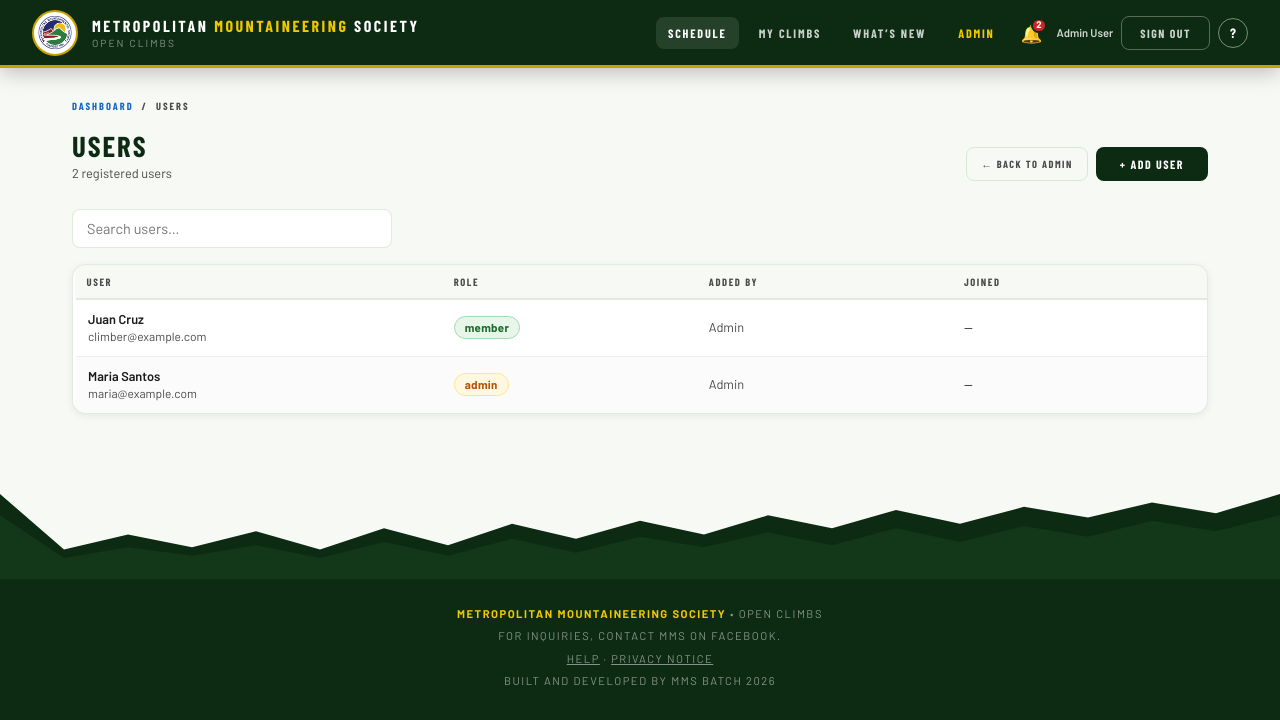
Admin UsersManage › saves a corrected name and email via updateUserProfile
Step 1. Click the button "Juan Cruz" → {"x": 116, "y": 319}, box [88,310,144,328]
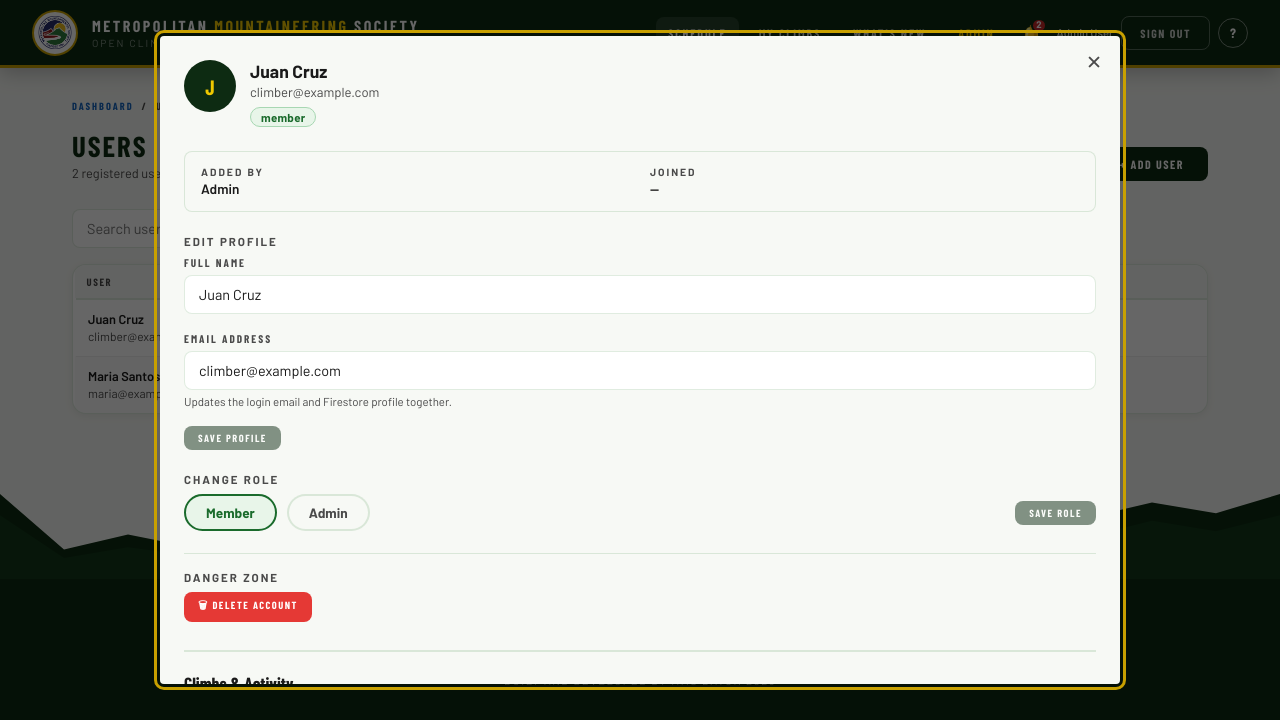
Result: the field showing "Juan Cruz" is shown
Step 2. Replace the text in the field showing "Juan Cruz" with "Juan Dela Cruz" → {"x": 640, "y": 294}, box [184,275,1096,314]
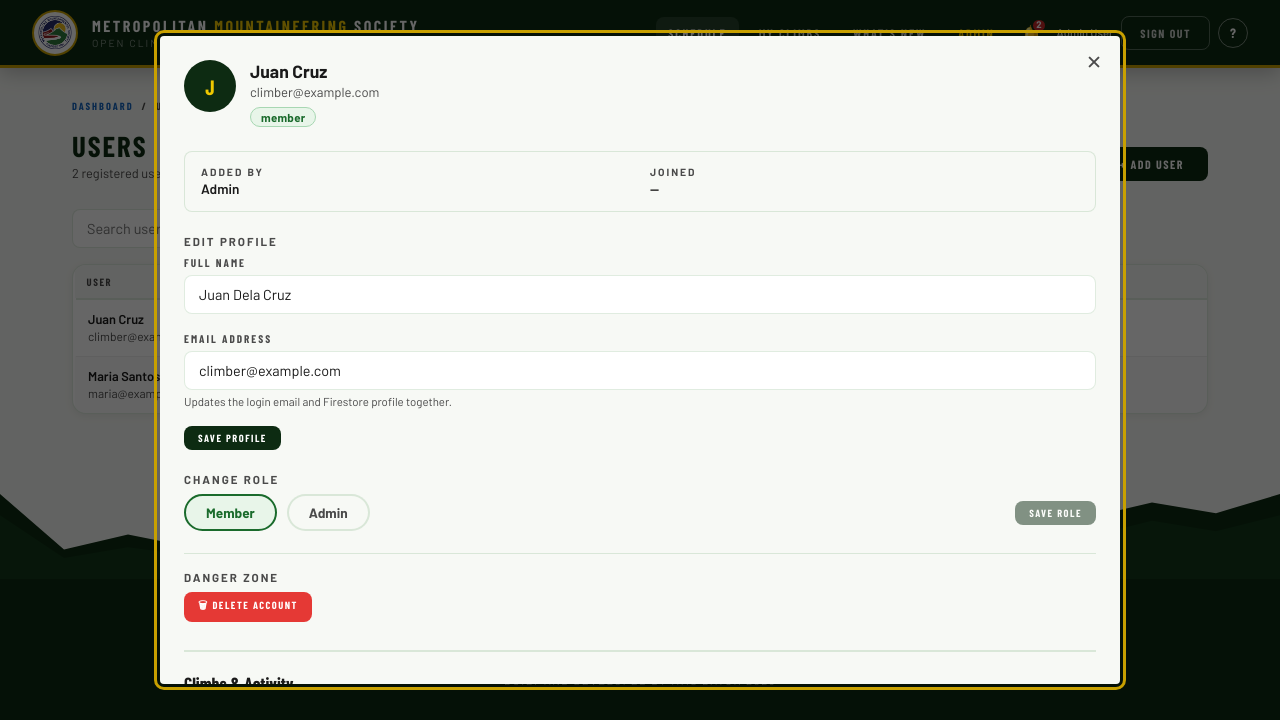
Step 3. Click the button "Save Profile" → {"x": 232, "y": 438}, box [184,426,281,450]
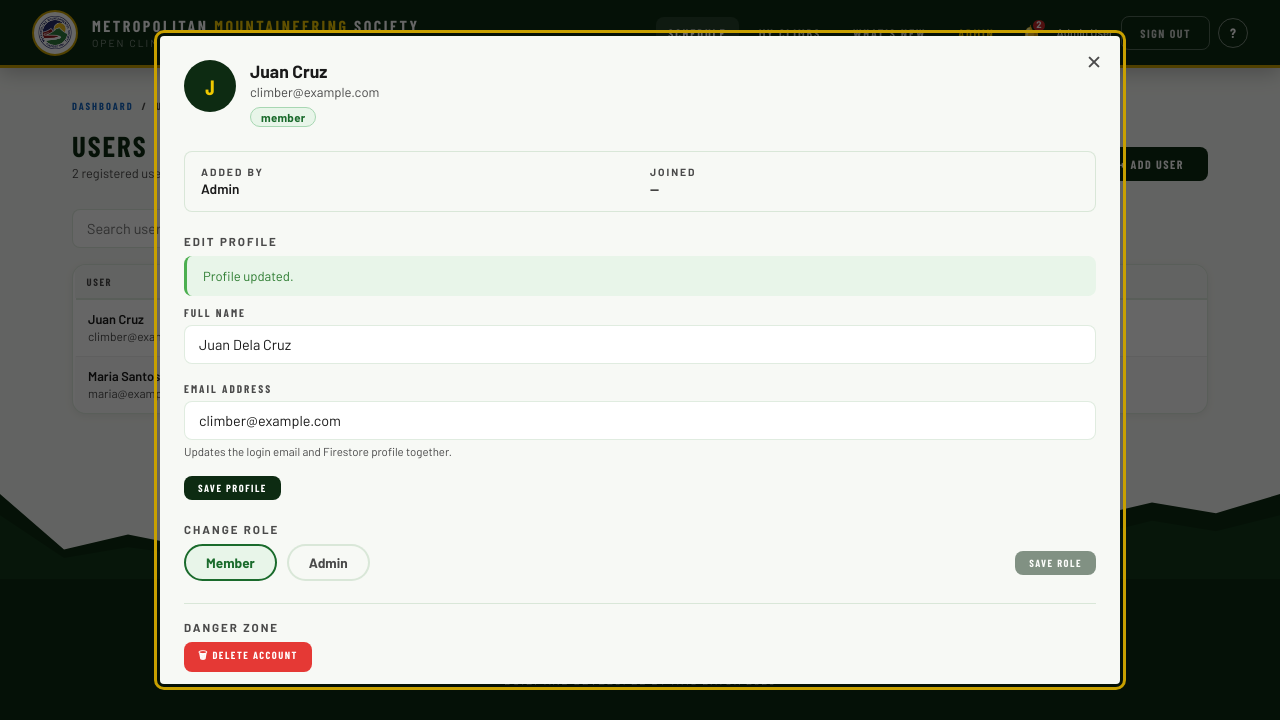
Result: the text "Profile updated." is shown at [184,256,1096,296]
